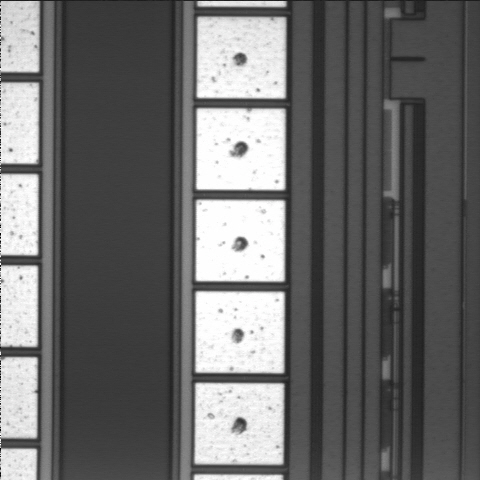pad: (197, 17, 286, 99), (196, 108, 285, 190), (196, 200, 285, 282), (195, 383, 284, 465), (196, 291, 284, 373)
